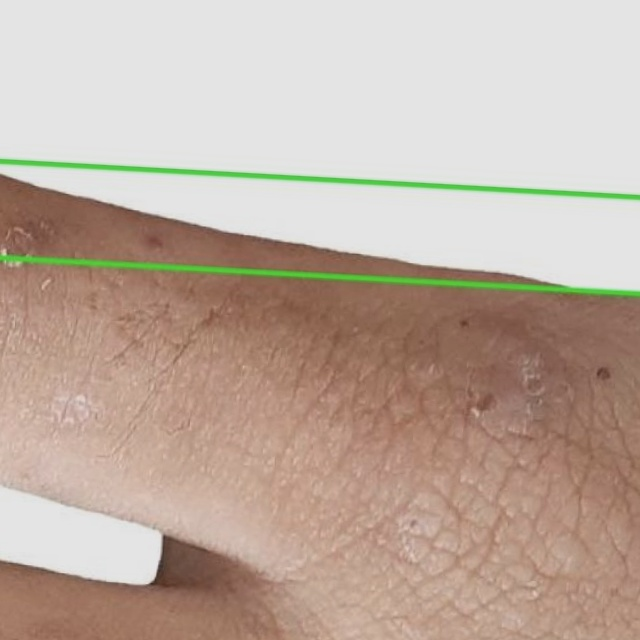Scabies: (0, 161, 639, 639), (0, 0, 639, 293)
